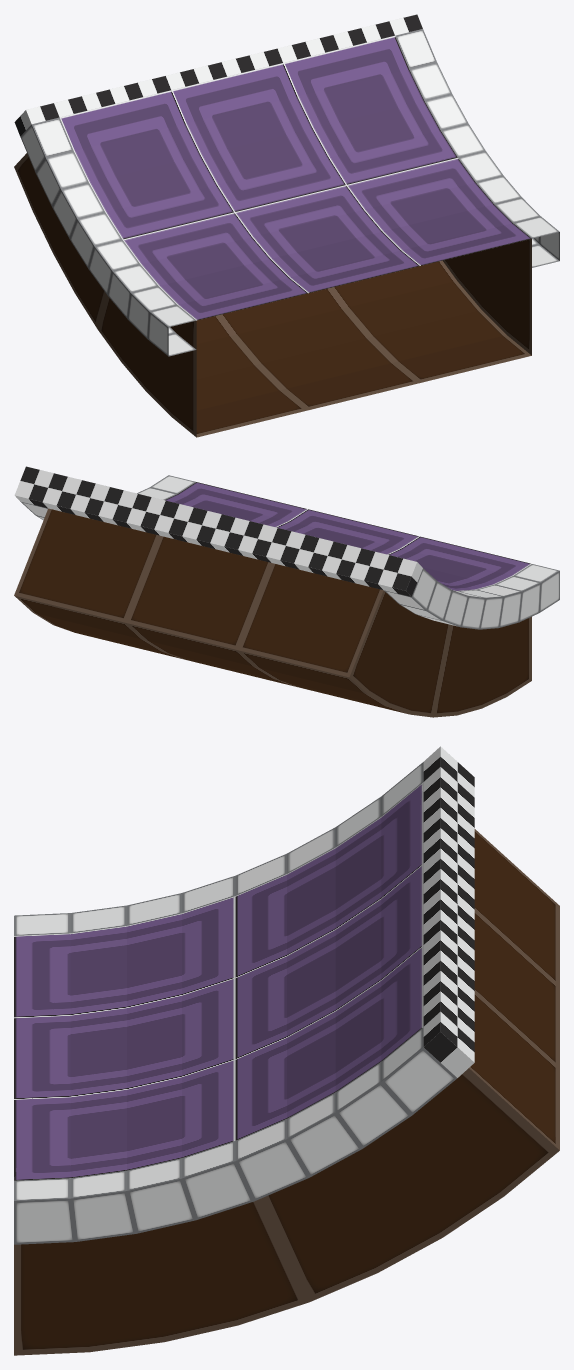
The model's file is ParCoreCurve1Half.obj.
3 views of the same model, one above another, from view 1: azimuth 30°, elevation 25°; view 2: azimuth 150°, elevation 25°; view 3: azimuth 270°, elevation 25° (orthographic). The views are drawn at different scales.
Parts seen in each view (by area): view 1: ParCoreCurve1Half; view 2: ParCoreCurve1Half; view 3: ParCoreCurve1Half.
Boxes of the visible parts, x1=… form: ParCoreCurve1Half: x1=14, y1=14, x2=559, y2=437; ParCoreCurve1Half: x1=14, y1=466, x2=559, y2=717; ParCoreCurve1Half: x1=14, y1=746, x2=559, y2=1355.
Bounding box in the file's own units: 7 × 3.93 × 5.66.
